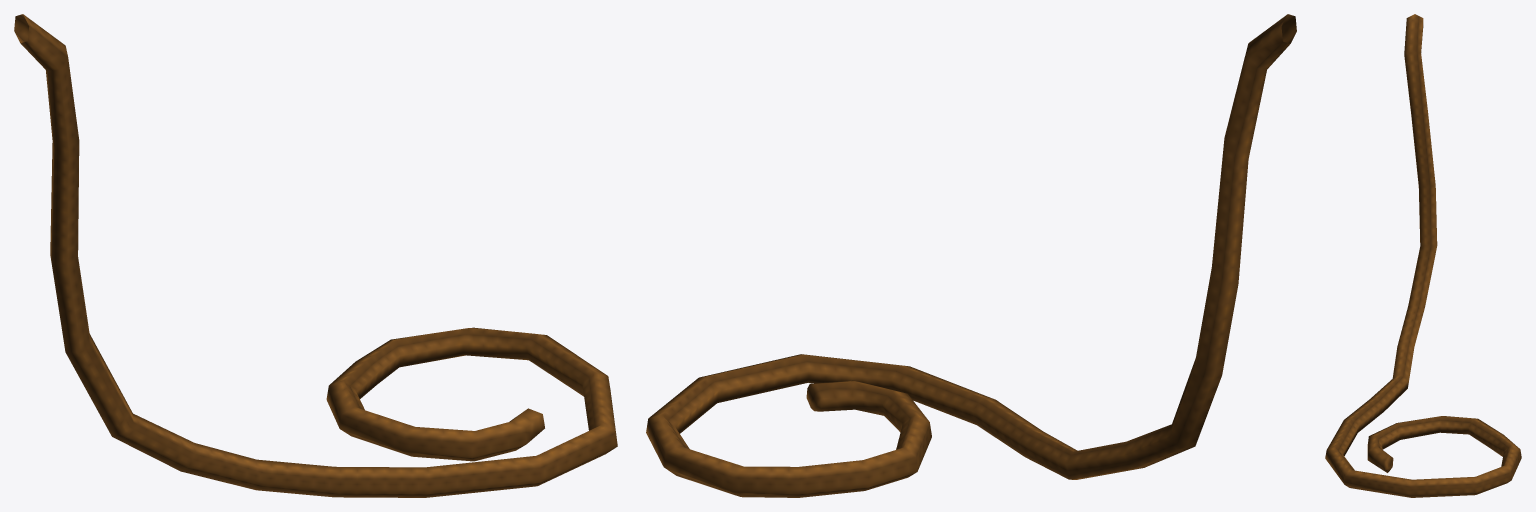
The model's file is Corde_3.fbx.
3 renders of one model, left to right at view 1: azimuth 30°, elevation 25°; view 2: azimuth 150°, elevation 25°; view 3: azimuth 270°, elevation 25°, orthographic. The views are drawn at different scales.
Parts seen in each view (by area): view 1: Corde_3; view 2: Corde_3; view 3: Corde_3.
Part boxes in pixels (bbox=[...]): Corde_3: bbox=[14, 14, 617, 497]; Corde_3: bbox=[646, 14, 1296, 497]; Corde_3: bbox=[1325, 14, 1521, 497].
Size of the model in its own units: 151 by 131 by 72.9.
